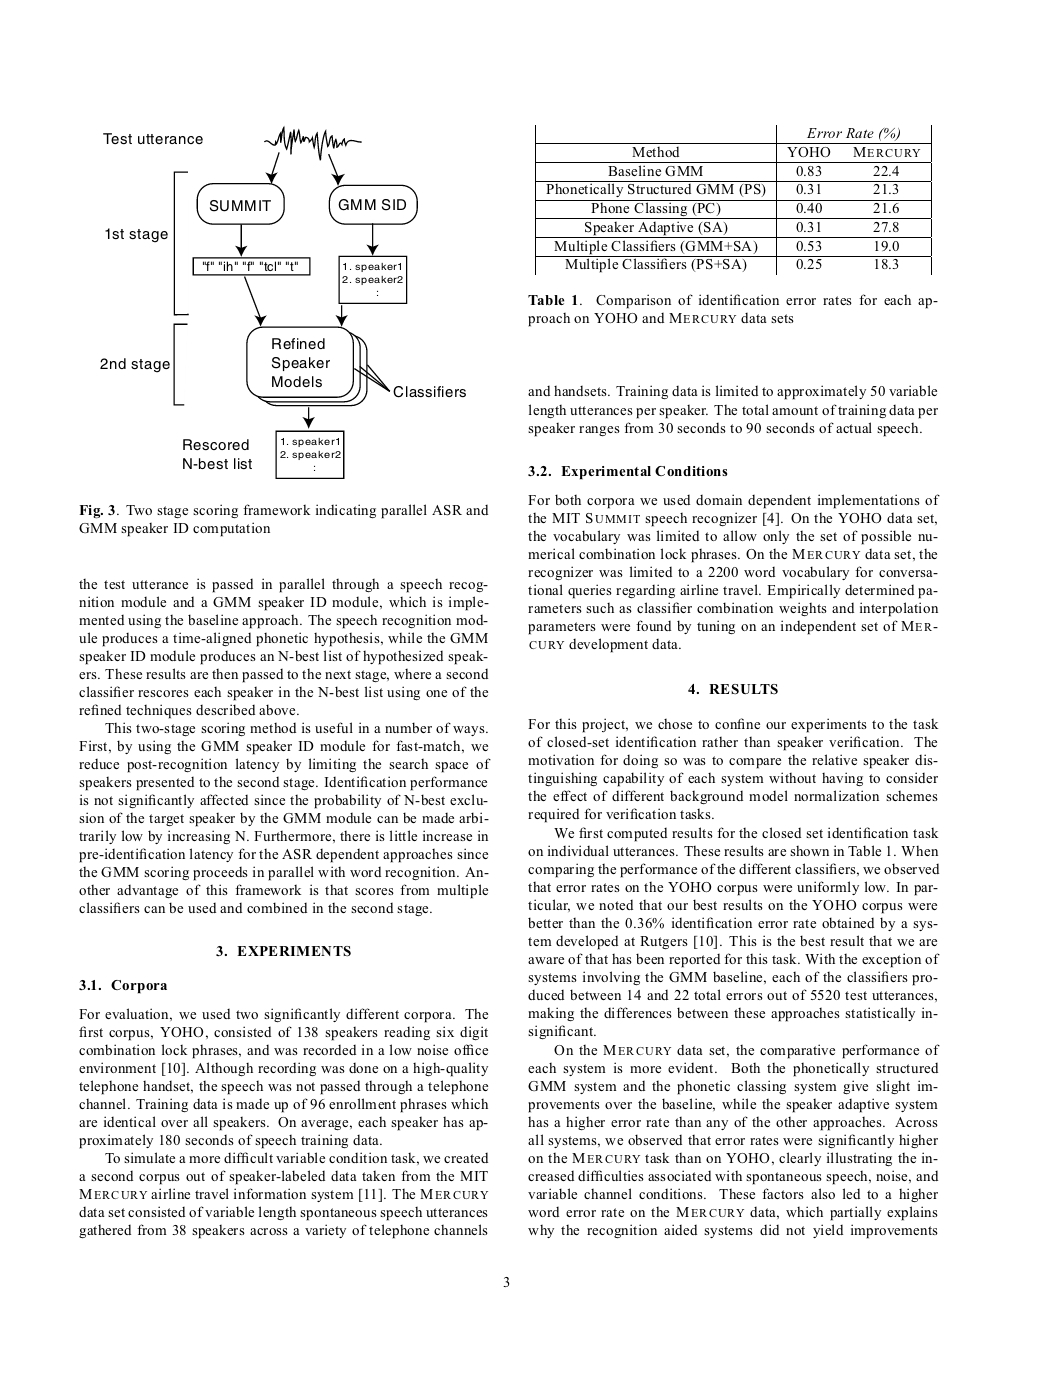Table: (535, 124, 931, 275)
figure: (100, 124, 465, 479)
